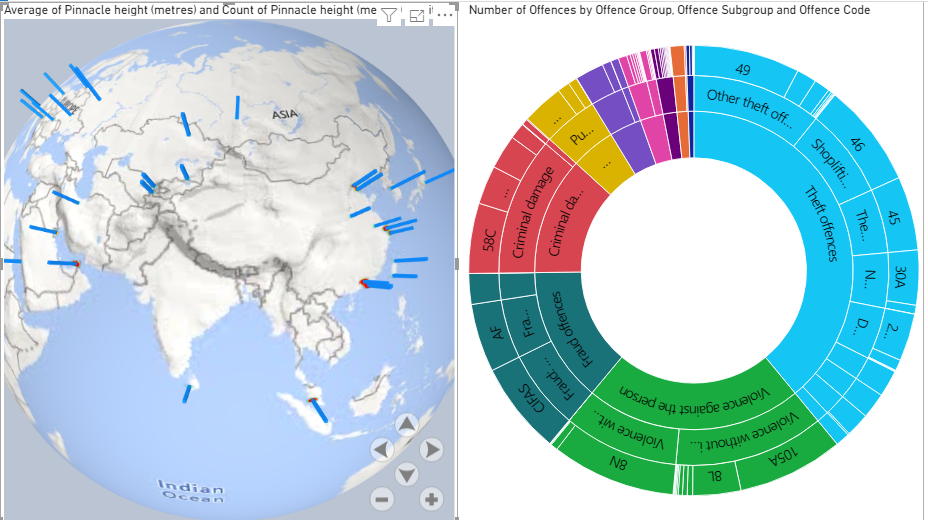

What the dashboard file says about the page in this screenshot:
{"tool":"powerbi","page":{"name":"Page 1","canvas":[1280,720],"ordinal":8},"visuals":[{"type":"GlobeMap1447669447625","fields":{"Location":["Skyscrapers.City"],"Height":["Avg(Skyscrapers.Pinnacle height (metres))"],"Heat":["CountNonNull(Skyscrapers.Pinnacle height (metres))1"]},"box":[10.1,0,629.9,720.6],"z":0},{"type":"Sunburst1445472000808","fields":{"Nodes":["2015-16.Offence Group","2015-16.Offence Subgroup","2015-16.Offence Code"],"Values":["Sum(2015-16.Number of Offences)"]},"box":[650,0,630,720],"z":1000}]}

Visuals, with their boxes in screenshot pixels (x1, y1, x2, y2), scaled from the page's 1280x720 canvas onto the 928x520 screenshot:
GlobeMap1447669447625 - Skyscrapers.City x Avg(Skyscrapers.Pinnacle height (metres)): <bbox>7, 0, 464, 519</bbox>
Sunburst1445472000808 - 2015-16.Offence Group x 2015-16.Offence Subgroup: <bbox>471, 0, 927, 519</bbox>
